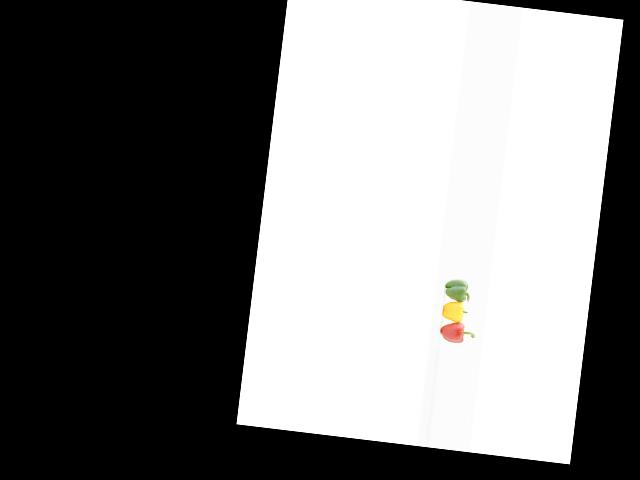bell_pepper: (435, 317, 478, 351)
